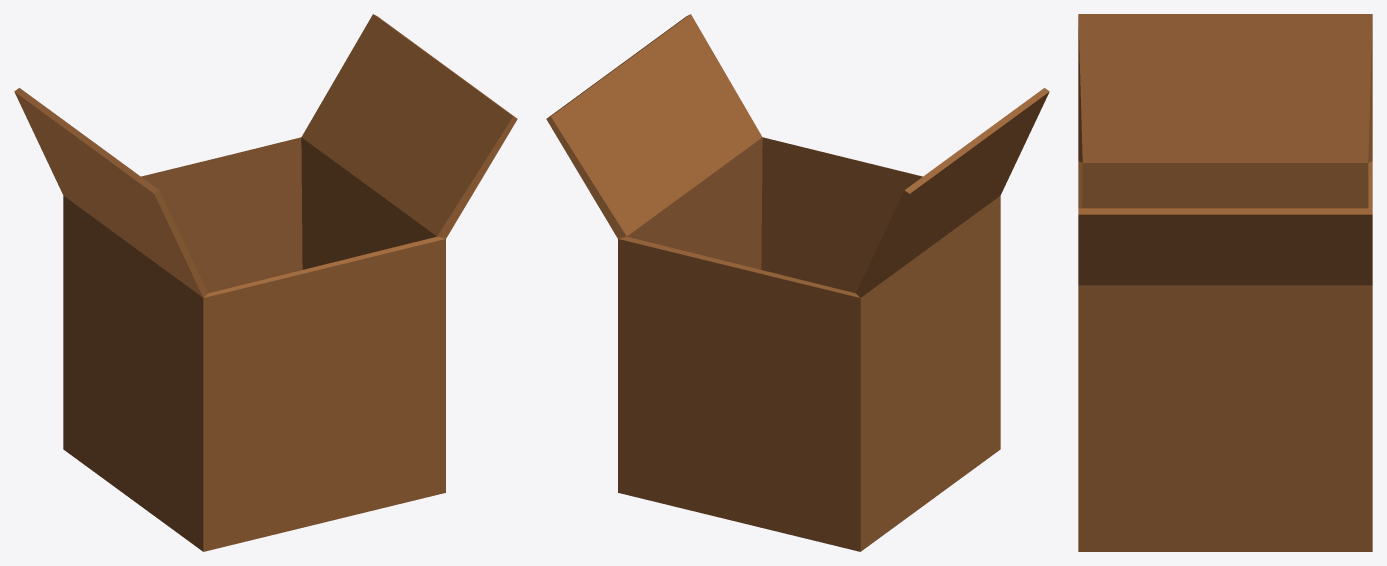
File: LP_PostApoc_SmallCardboardBox.fbx
3 views of the same model, side by side, from view 1: azimuth 30°, elevation 25°; view 2: azimuth 150°, elevation 25°; view 3: azimuth 270°, elevation 25° (orthographic). The views are drawn at different scales.
Visible parts, largest first — view 1: SmallCardboardBox; view 2: SmallCardboardBox; view 3: SmallCardboardBox.
Boxes of the visible parts, <box> form: SmallCardboardBox: <box>14,14,517,551</box>; SmallCardboardBox: <box>546,14,1049,551</box>; SmallCardboardBox: <box>1078,14,1372,551</box>.
Size of the model in its own units: 82.24 by 80.51 by 54.9.
